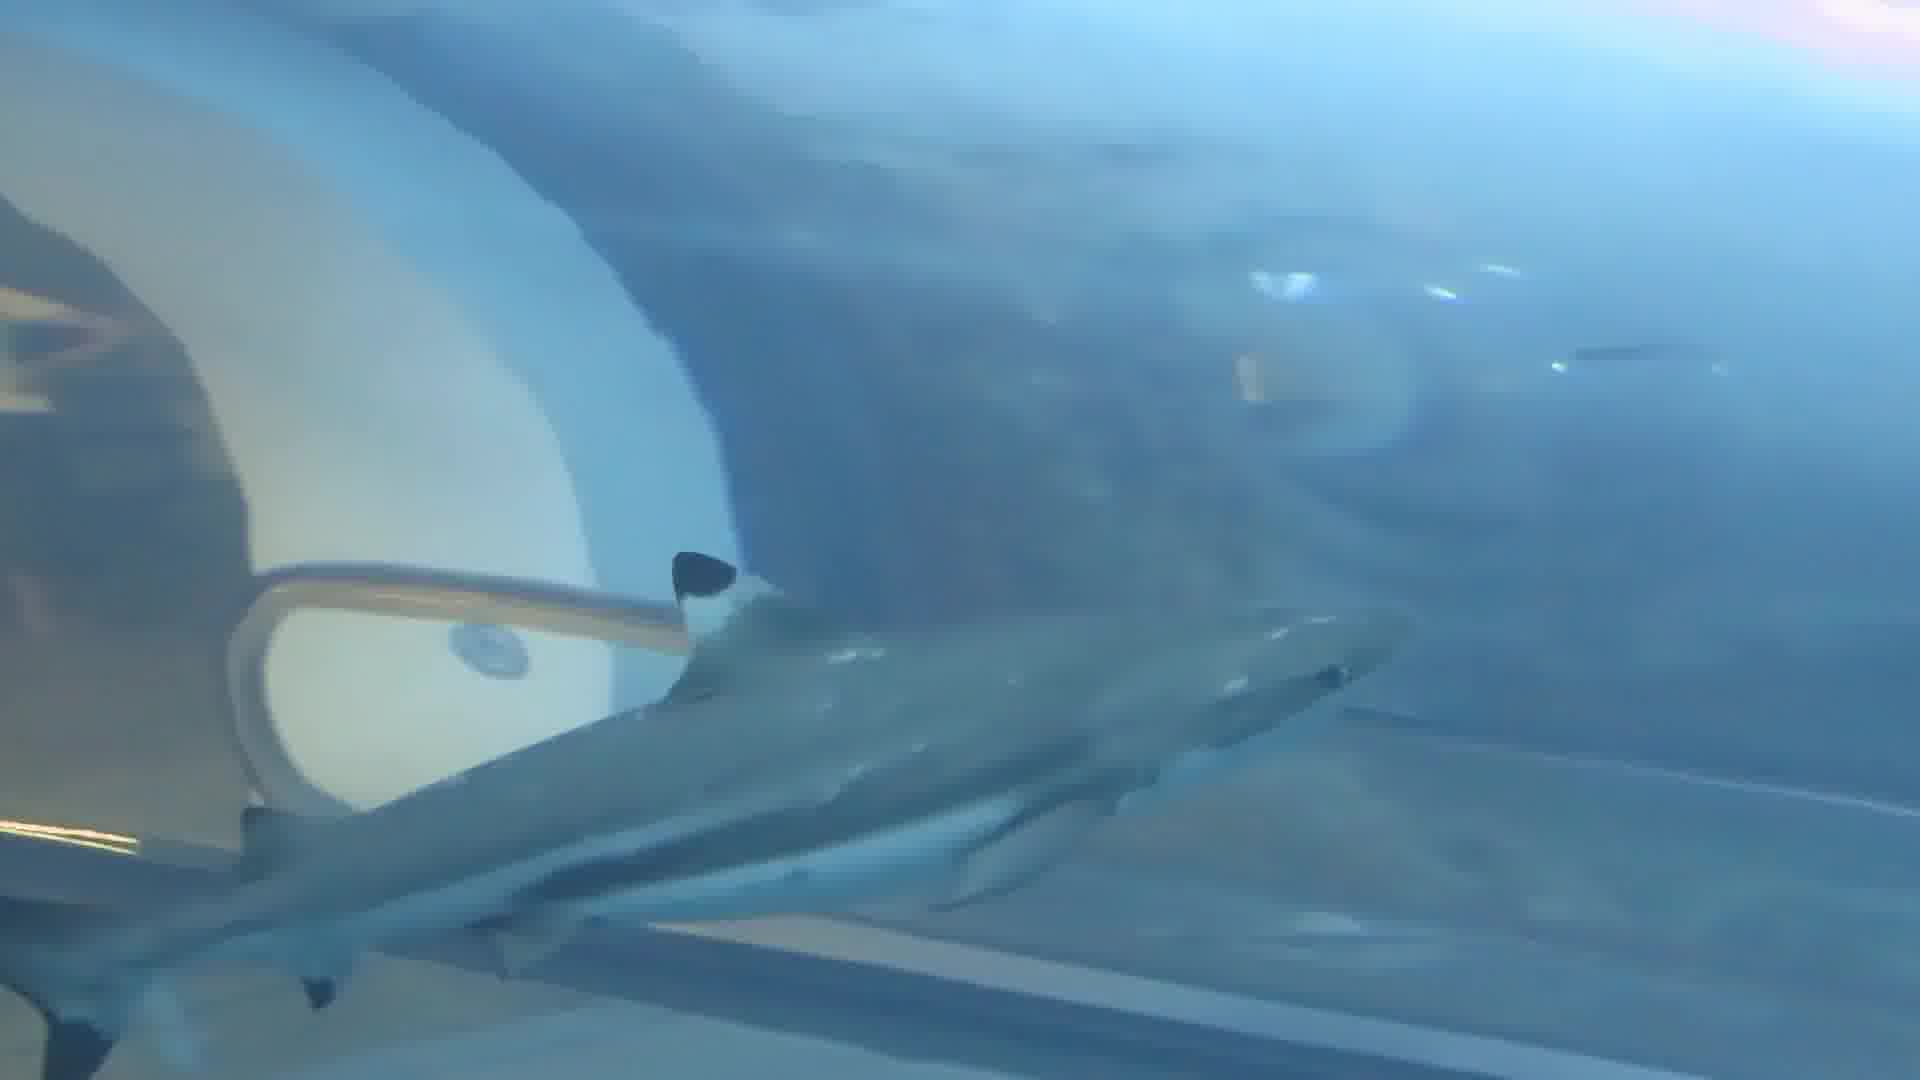Carcharhinus melanopterus: (1, 542, 1445, 1034)
